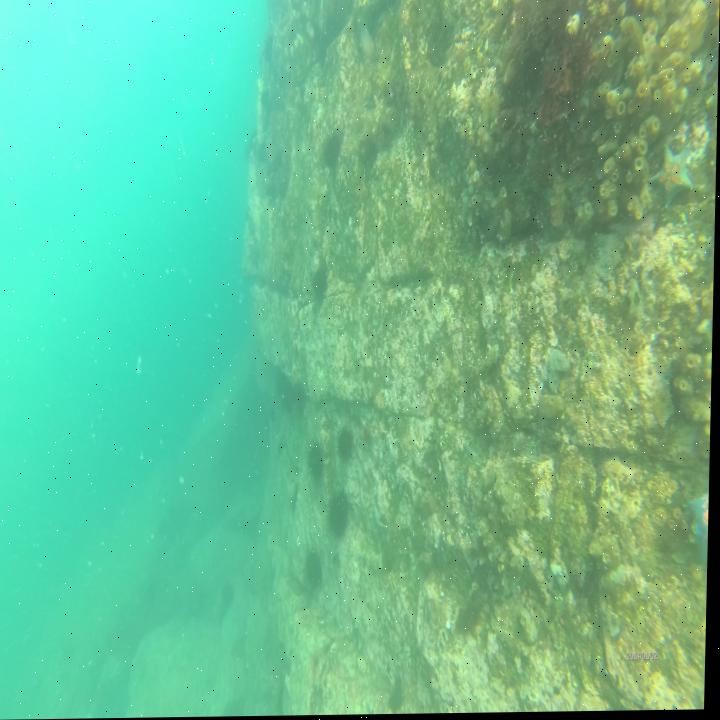echinus: (330, 490, 353, 540), (308, 547, 328, 591), (308, 442, 328, 484), (324, 130, 344, 167), (336, 427, 356, 463), (314, 265, 331, 295)
starfish: (649, 139, 696, 209), (687, 484, 711, 547)
